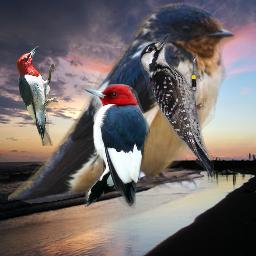Swallow: (8, 1, 238, 204)
Woodpecker: (139, 33, 214, 177), (83, 80, 150, 211), (16, 46, 58, 146)
